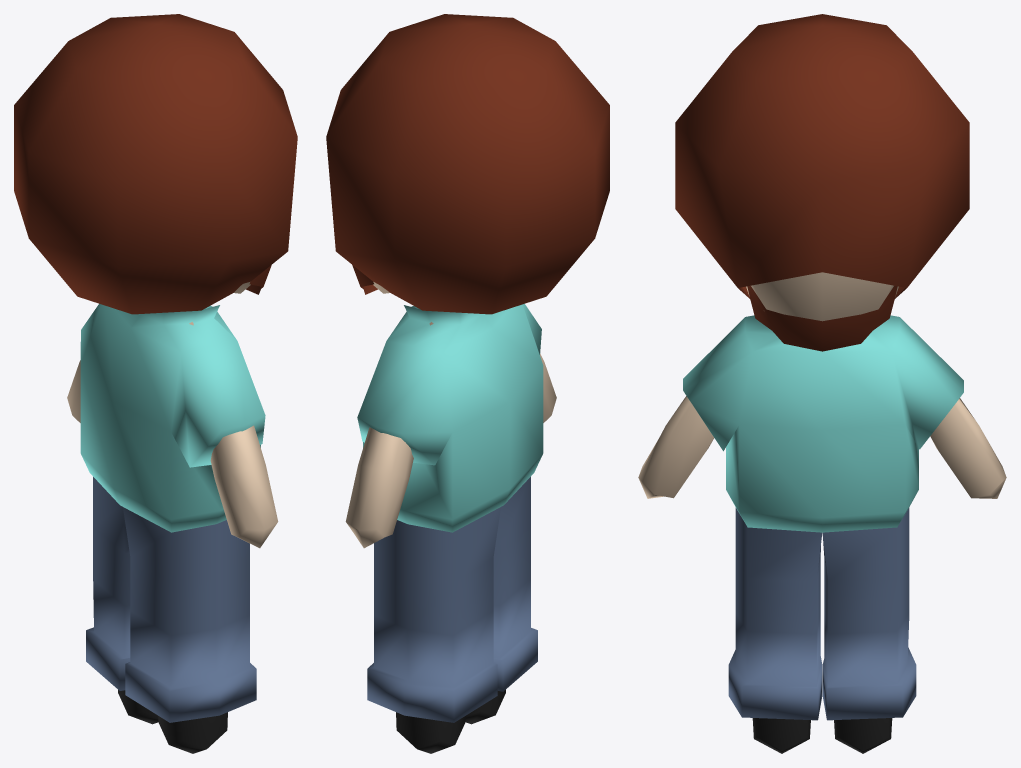
Rendered from bobbyshmurda.fbx.
The picture shows the model from 3 angles, left to right: view 1: azimuth 30°, elevation 25°; view 2: azimuth 150°, elevation 25°; view 3: azimuth 270°, elevation 25°; orthographic projection.
Parts seen in each view (by area): view 1: bighair, shirt, PANTS, arm.001, leg.003BOBBY, leg.004BOBBY, arm; view 2: bighair, shirt, PANTS, arm, leg.004BOBBY, leg.003BOBBY, arm.001; view 3: bighair, shirt, PANTS, HEADLOWPOLY, arm, arm.001, beard, leg.003BOBBY, leg.004BOBBY.
Boxes of the visible parts, box(x1,y1,x2,y2) form: bighair: box(14, 14, 297, 314); shirt: box(80, 303, 265, 532); PANTS: box(86, 477, 256, 722); arm.001: box(210, 425, 278, 548); leg.003BOBBY: box(158, 712, 227, 753); leg.004BOBBY: box(118, 690, 158, 724); arm: box(67, 360, 80, 422); bighair: box(326, 14, 609, 314); shirt: box(357, 304, 543, 532); PANTS: box(367, 477, 537, 722); arm: box(345, 427, 413, 548); leg.004BOBBY: box(396, 712, 465, 753); leg.003BOBBY: box(465, 689, 505, 724); arm.001: box(540, 354, 556, 422); bighair: box(675, 14, 969, 298); shirt: box(683, 315, 963, 532); PANTS: box(728, 507, 916, 720); HEADLOWPOLY: box(746, 272, 898, 321); arm: box(930, 398, 1006, 498); arm.001: box(638, 396, 713, 498); beard: box(747, 285, 897, 351); leg.003BOBBY: box(752, 718, 810, 753); leg.004BOBBY: box(834, 718, 892, 753).
Bounding box in the file's own units: 191 × 152 × 411.
